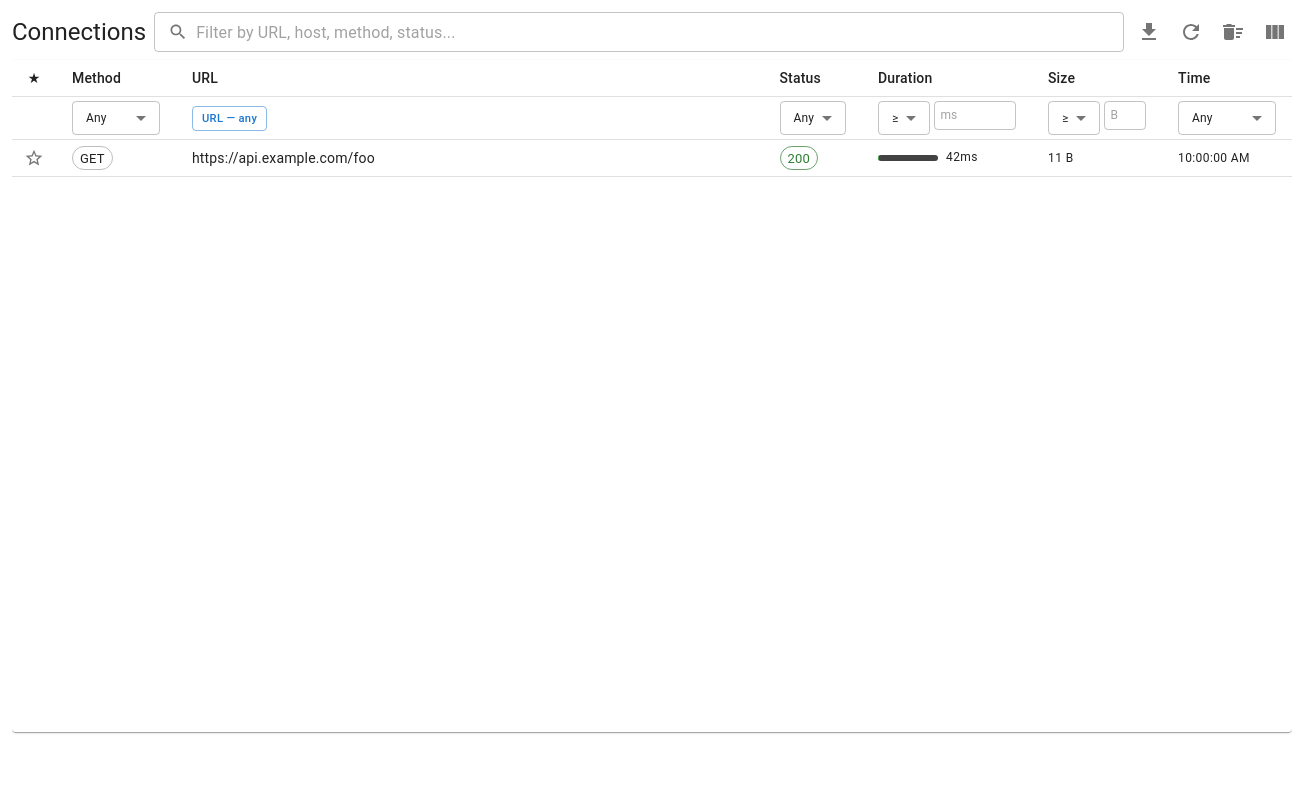
ConnectionsPage — bookmark + export › export menu lists every codegen language in both scopes
Expected: the text "https://api.example.com/foo" is shown, left=176, top=140, right=764, bottom=177
Click the button with test id "export-menu-button".
click(1149, 32)  # box left=1132, top=15, right=1166, bottom=49
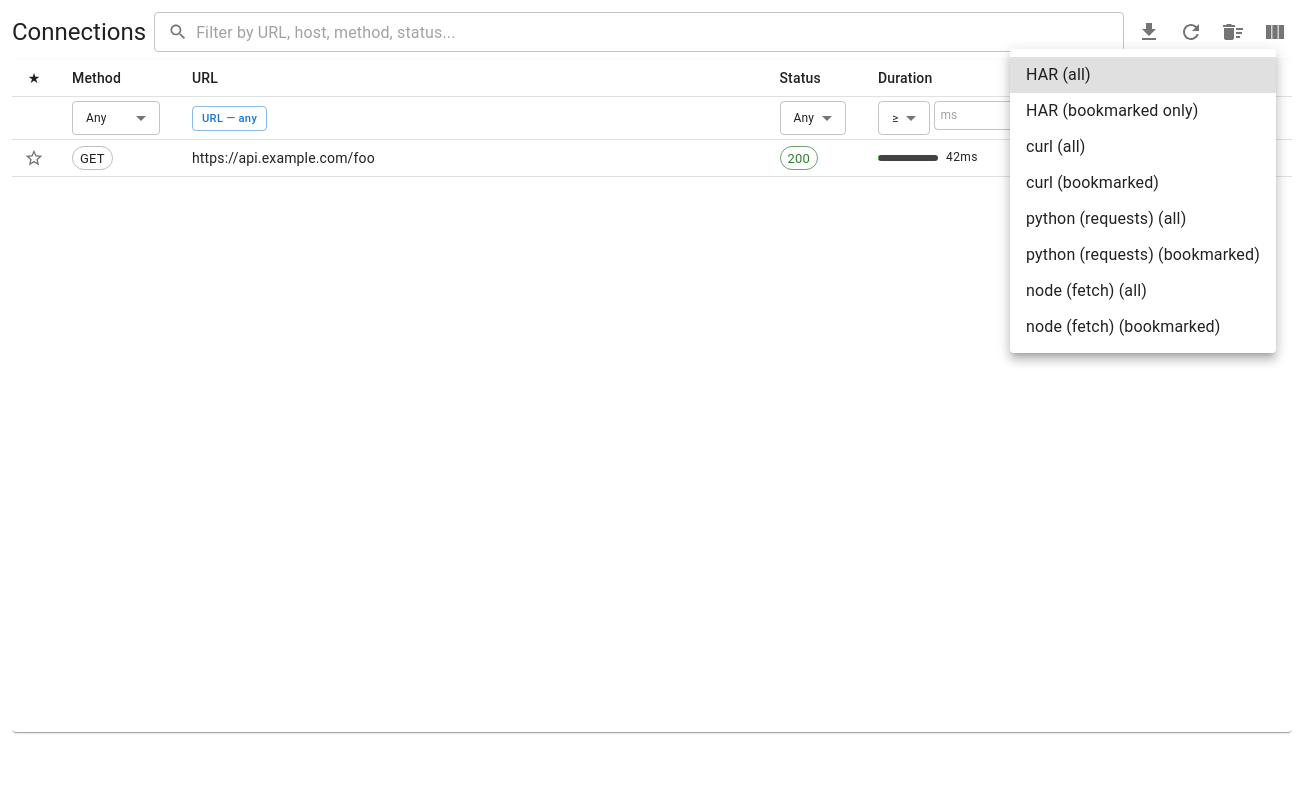
Expected: the menu item with test id "export-curl-all" is shown, left=1026, top=137, right=1086, bottom=156
